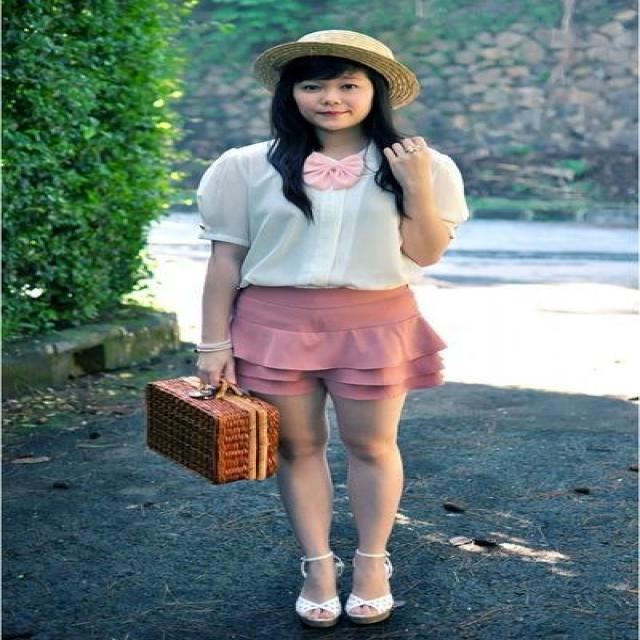bag: (146, 368, 292, 484)
hat: (250, 30, 418, 88)
shirt: (181, 141, 469, 289)
shoe: (296, 576, 403, 621)
skirt: (211, 269, 448, 396)
